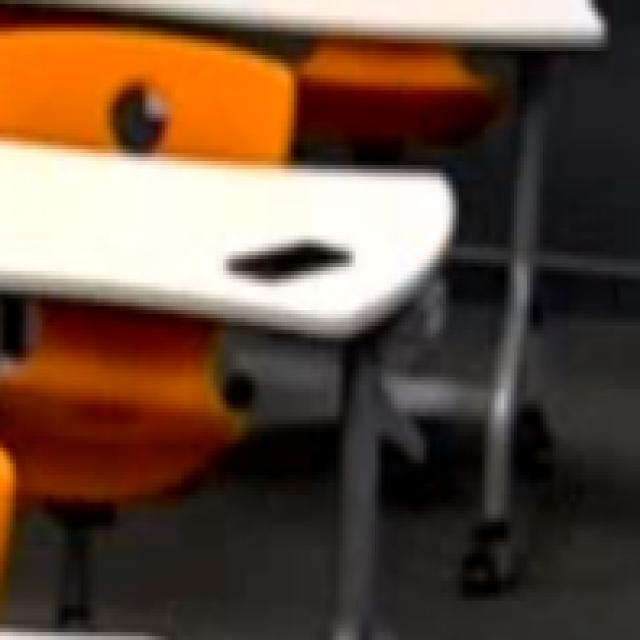phone: (222, 222, 363, 294)
